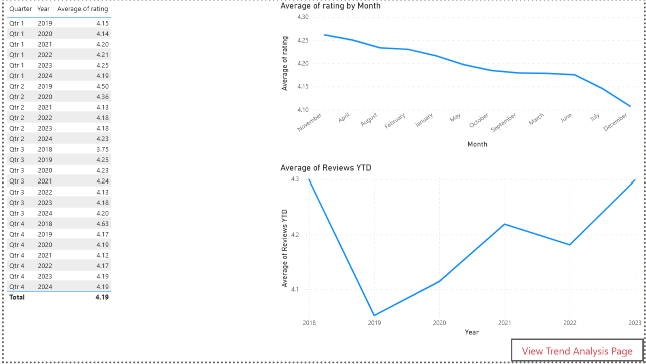

This screenshot's page, from the dashboard's own definition file:
{"tool":"powerbi","page":{"name":"Page 2","canvas":[1280,720],"ordinal":1},"visuals":[{"type":"tableEx","fields":{"Values":["Dim_Date.Date.Variation.Date Hierarchy.Quarter","Dim_Date.Year","Avg(reviews.rating)"]},"box":[10,0,404,360],"z":0},{"type":"columnChart","fields":{"Y":["Avg(apps.app_id)"],"Category":["apps.launch_date.Variation.Date Hierarchy.Month"]},"box":[10,360,994,300],"z":1000},{"type":"lineChart","fields":{"Y":["Avg(reviews.rating)"],"Category":["Dim_Date.Year"]},"box":[468,0,390,300],"z":1001}]}

Visuals, with their boxes in screenshot pixels (x1, y1, x2, y2), scaled from the page's 1280x720 canvas onto the 646x364 screenshot:
tableEx - Dim_Date.Date.Variation.Date Hierarchy.Quarter x Dim_Date.Year: box(5, 0, 209, 182)
columnChart - Avg(apps.app_id) x apps.launch_date.Variation.Date Hierarchy.Month: box(5, 182, 507, 334)
lineChart - Avg(reviews.rating) x Dim_Date.Year: box(236, 0, 433, 152)
